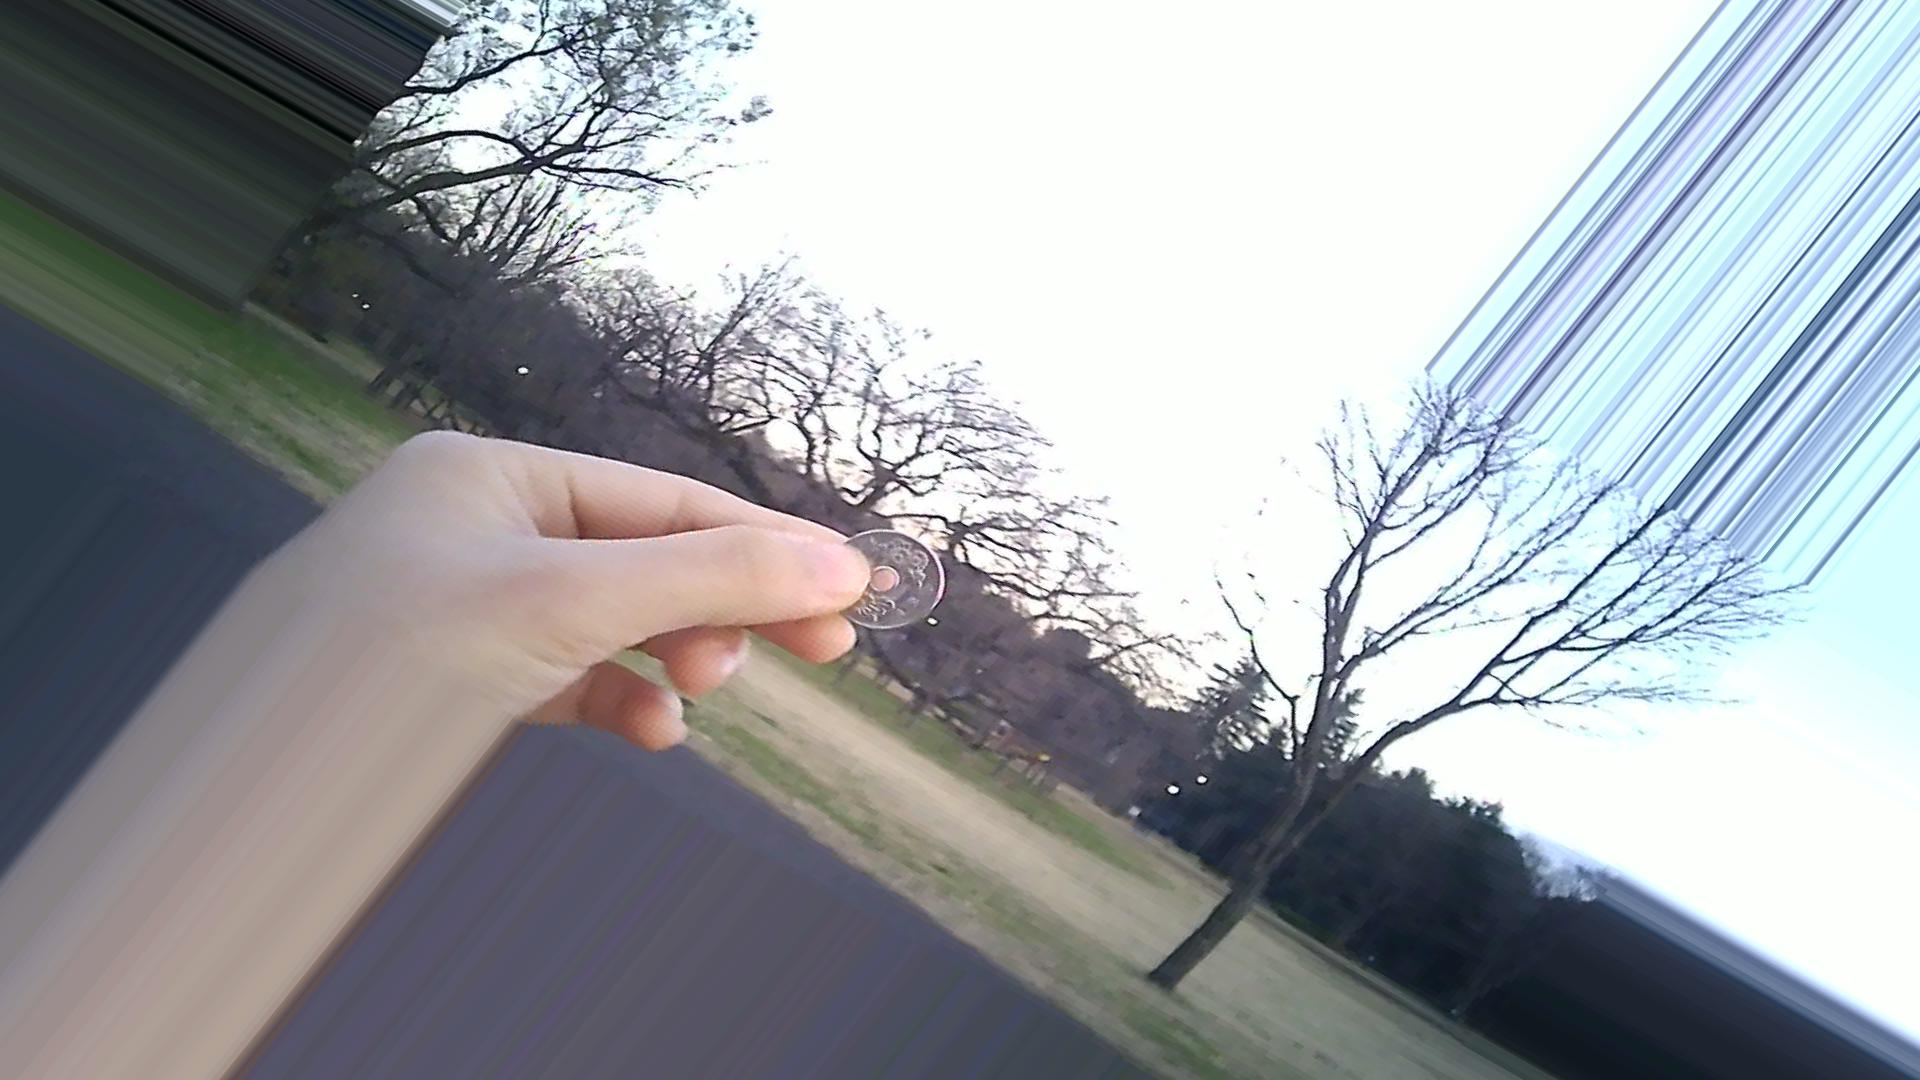50 Yen: (816, 516, 952, 644)
